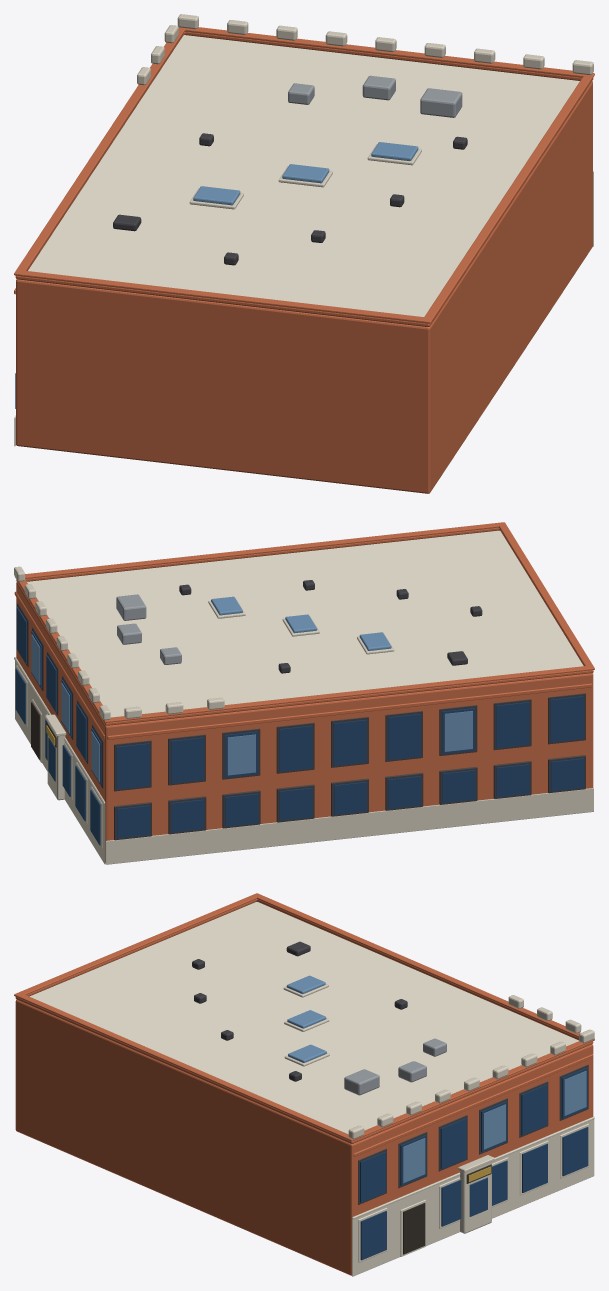
File: 524-second.glb
The picture shows the model from 3 angles, top to bottom: view 1: azimuth 30°, elevation 25°; view 2: azimuth 150°, elevation 25°; view 3: azimuth 270°, elevation 25°; orthographic projection. The views are drawn at different scales.
Parts seen in each view (by area): view 1: body, coping, parapet, rtu0, rtu1, skylight1, skylight2, skylight0; view 2: body, taber_base, coping, parapet, corbel_t, front_base, taber_u0_fill, taber_u3_fill, taber_u4_fill, taber_u8_fill, taber_u7_fill, taber_u1_fill (+30 smaller); view 3: body, coping, front_base, parapet, entry_bay, front_u4_fill, front_u2_fill, front_g5_fill, front_u0_fill, front_g0_fill, corbel_f, front_g4_fill (+9 smaller).
Boxes of the visible parts, x1,y1,x2,y2 form: body: (16,35,592,493); coping: (14,27,594,323); parapet: (15,31,593,326); rtu0: (420,88,462,117); rtu1: (362,75,395,100); skylight1: (282,164,329,183); skylight2: (193,186,240,205); skylight0: (371,142,418,160); body: (16,530,593,862); taber_base: (105,788,593,864); coping: (15,522,594,722); parapet: (16,527,593,725); corbel_t: (107,683,592,739); front_base: (15,657,105,864); taber_u0_fill: (116,743,149,789); taber_u3_fill: (279,725,312,771); taber_u4_fill: (333,720,366,765); taber_u8_fill: (550,696,583,742); taber_u7_fill: (496,702,529,747); taber_u1_fill: (171,737,203,783); body: (15,902,593,1275); coping: (14,893,594,1141); front_base: (352,1116,594,1276); parapet: (15,899,593,1143); entry_bay: (459,1156,491,1233); front_u4_fill: (521,1084,547,1135); front_u2_fill: (440,1118,466,1168); front_g5_fill: (562,1127,588,1176); front_u0_fill: (360,1151,385,1202); front_g0_fill: (360,1211,386,1260); corbel_f: (353,1054,593,1156); front_g4_fill: (522,1143,547,1192).
Size of the model in its own units: 36 by 9.9 by 35.77.
